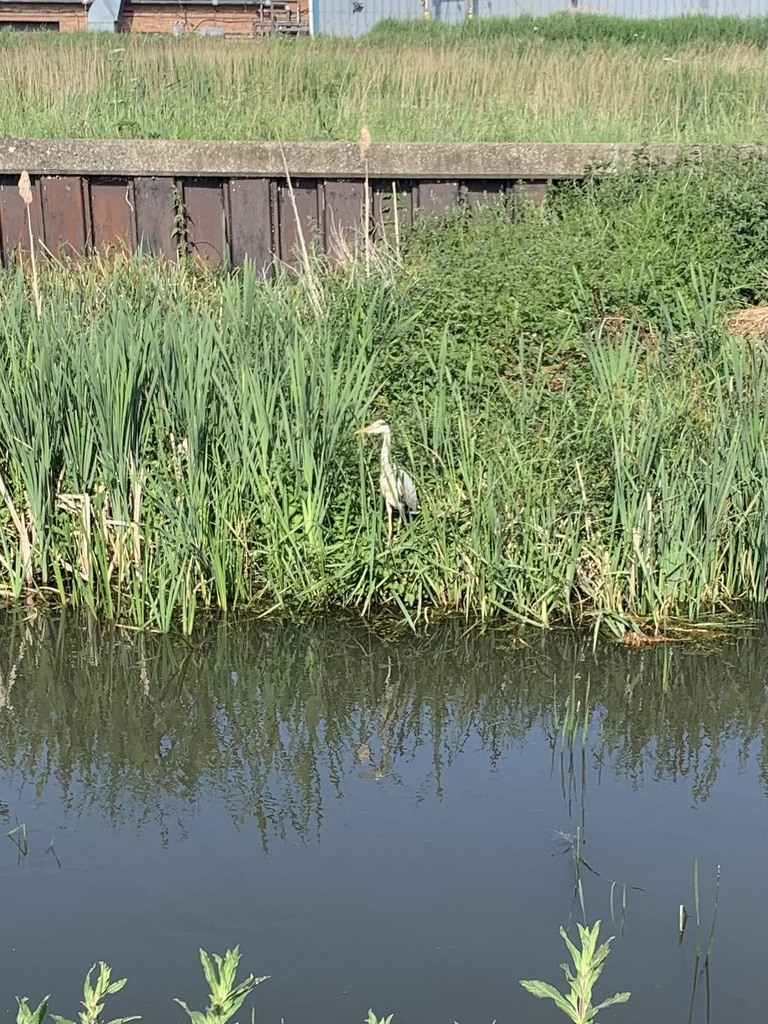heron: (351, 416, 422, 553)
